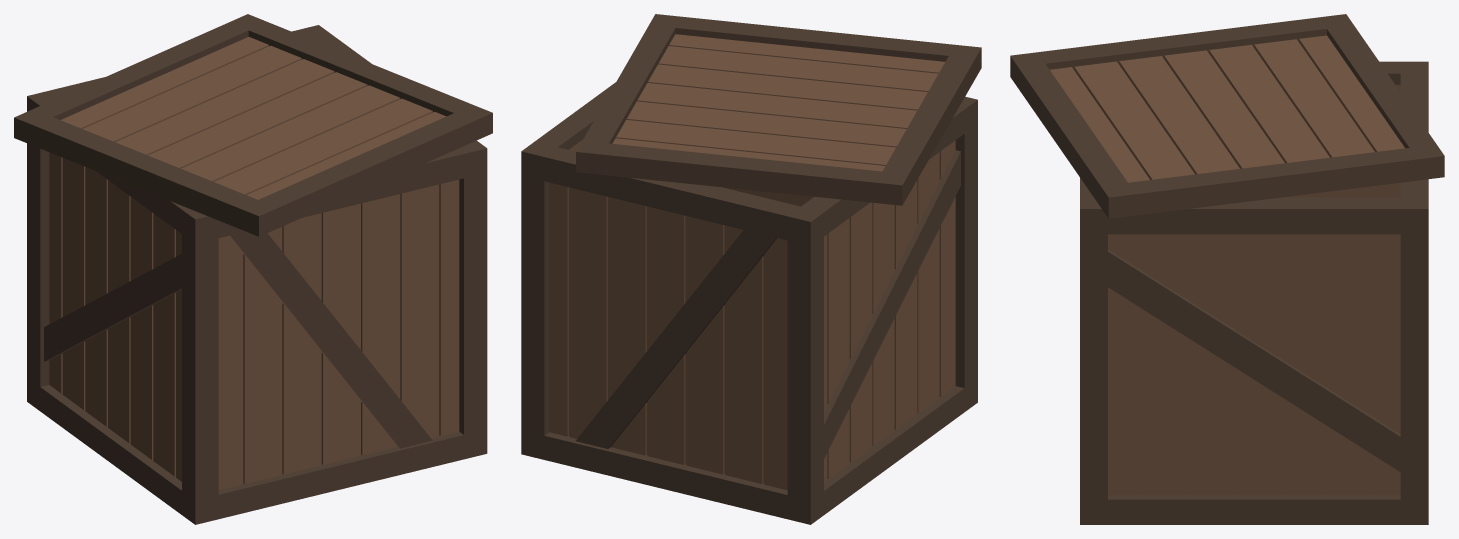
Rendered from Caisse_2.fbx.
3 renders of one model, left to right at view 1: azimuth 30°, elevation 25°; view 2: azimuth 150°, elevation 25°; view 3: azimuth 270°, elevation 25°, orthographic. The views are drawn at different scales.
Parts seen in each view (by area): view 1: pCube95; view 2: pCube95; view 3: pCube95.
Part boxes in pixels (x1=…): pCube95: x1=14, y1=14, x2=492, y2=524; pCube95: x1=521, y1=14, x2=981, y2=524; pCube95: x1=1010, y1=14, x2=1444, y2=524.
Size of the model in its own units: 1.25 by 1.07 by 1.25.
